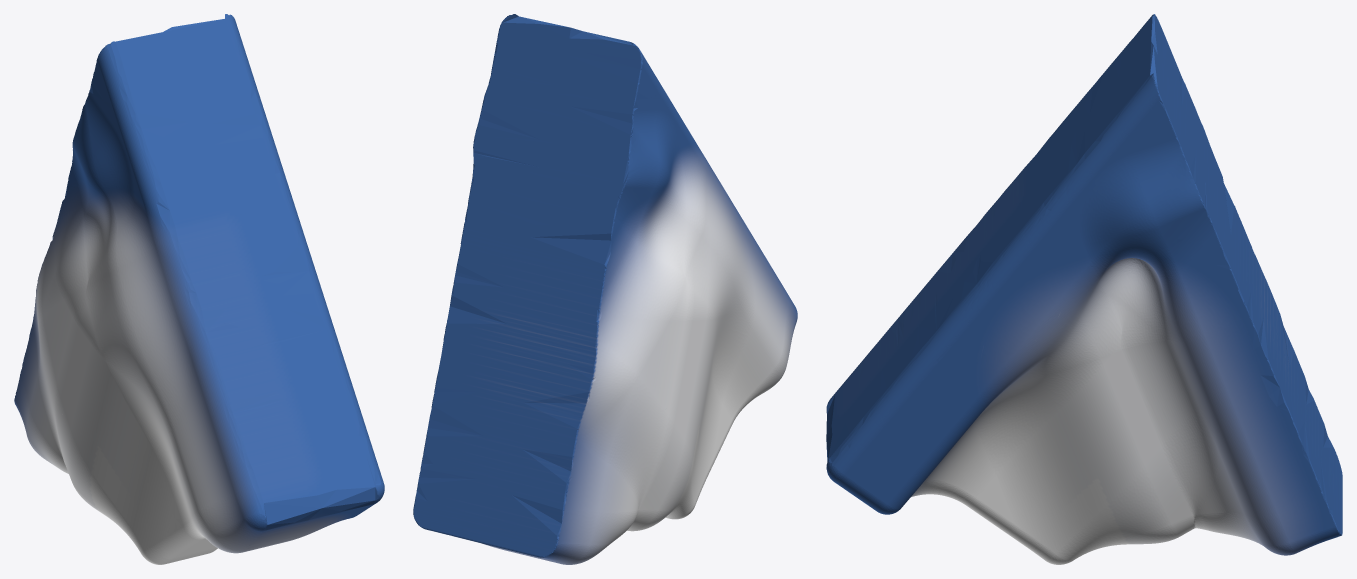
File: BunnyEar2.obj
3 views of the same model, side by side, from view 1: azimuth 30°, elevation 25°; view 2: azimuth 150°, elevation 25°; view 3: azimuth 270°, elevation 25° (orthographic). The views are drawn at different scales.
Visible parts, largest first — view 1: model_2; view 2: model_2; view 3: model_2.
Part boxes in pixels (box(x1,y1,x2,y2)): model_2: box(14, 14, 384, 564); model_2: box(413, 14, 797, 564); model_2: box(826, 14, 1342, 564).
Bounding box in the file's own units: 44.93 × 114 × 101.
Materials: 1 (1 with a texture image).
